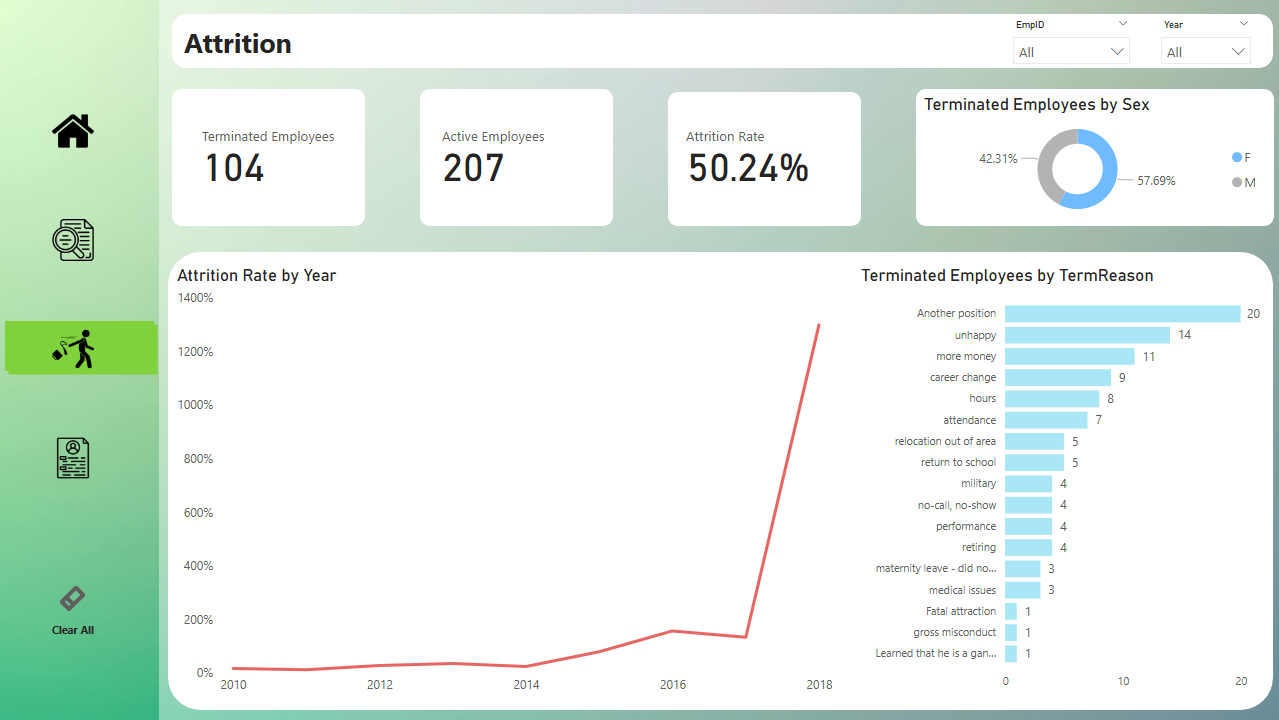

The dashboard page shown, as its layout file describes it:
{"tool":"powerbi","page":{"name":"ATTRITION","canvas":[1280,720],"ordinal":2},"visuals":[{"type":"shape","box":[0,316,159,60],"z":0},{"type":"shape","box":[159,0,1121,720],"z":1000},{"type":"shape","box":[167,9,1111,64],"z":2000},{"type":"shape","box":[167,84,203,147],"z":3000},{"type":"shape","box":[911,84,368,147],"z":4000},{"type":"shape","box":[163,247,1115,468],"z":5000},{"type":"cardVisual","fields":{"Data":["_measure.Terminated Employees"]},"box":[179,101,181,118],"z":6000},{"type":"barChart","fields":{"Y":["_measure.Terminated Employees"],"Category":["HRDataset.TermReason"]},"box":[856,265,415,434],"z":7000},{"type":"slicer","fields":{"Values":["Date Table.Year"]},"box":[1151,14,110,55],"z":8000},{"type":"textbox","box":[179,19,219,59],"z":9000},{"type":"actionButton","box":[56,582,33,33],"z":10000},{"type":"image","box":[48,110,50,42],"z":11000},{"type":"image","box":[48,328,50,42],"z":12000},{"type":"image","box":[48,219,50,42],"z":13000},{"type":"image","box":[48,437,50,42],"z":14000},{"type":"textbox","box":[39,615,68,31],"z":15000},{"type":"shape","box":[415,84,203,147],"z":16000},{"type":"shape","box":[663,87,203,144],"z":17000},{"type":"cardVisual","fields":{"Data":["_measure.Active Employees"]},"box":[419,101,192,118],"z":18000},{"type":"cardVisual","fields":{"Data":["_measure.Attrition Rate"]},"box":[663,101,193,118],"z":19000},{"type":"donutChart","fields":{"Y":["_measure.Terminated Employees"],"Category":["HRDataset.Sex"]},"box":[919,94,352,131],"z":20000},{"type":"lineChart","fields":{"Y":["_measure.Attrition Rate"],"Category":["Date Table.Year","Date Table.Month Name"]},"box":[172,265,665,438],"z":21000},{"type":"slicer","fields":{"Values":["HRDataset.EmpID"]},"box":[1003,14,137,62],"z":22000}]}

Visuals, with their boxes on the page's 1280x720 design canvas (x1, y1, x2, y2). These are canvas units, not pixel positions in the 1279x720 screenshot, which may show the page scaled, cropped or inside an application window:
shape: bbox(0, 316, 159, 376)
shape: bbox(159, 0, 1280, 720)
shape: bbox(167, 9, 1278, 73)
shape: bbox(167, 84, 370, 231)
shape: bbox(911, 84, 1279, 231)
shape: bbox(163, 247, 1278, 715)
cardVisual - _measure.Terminated Employees: bbox(179, 101, 360, 219)
barChart - _measure.Terminated Employees x HRDataset.TermReason: bbox(856, 265, 1271, 699)
slicer - Date Table.Year: bbox(1151, 14, 1261, 69)
textbox: bbox(179, 19, 398, 78)
actionButton: bbox(56, 582, 89, 615)
image: bbox(48, 110, 98, 152)
image: bbox(48, 328, 98, 370)
image: bbox(48, 219, 98, 261)
image: bbox(48, 437, 98, 479)
textbox: bbox(39, 615, 107, 646)
shape: bbox(415, 84, 618, 231)
shape: bbox(663, 87, 866, 231)
cardVisual - _measure.Active Employees: bbox(419, 101, 611, 219)
cardVisual - _measure.Attrition Rate: bbox(663, 101, 856, 219)
donutChart - _measure.Terminated Employees x HRDataset.Sex: bbox(919, 94, 1271, 225)
lineChart - _measure.Attrition Rate x Date Table.Year: bbox(172, 265, 837, 703)
slicer - HRDataset.EmpID: bbox(1003, 14, 1140, 76)
